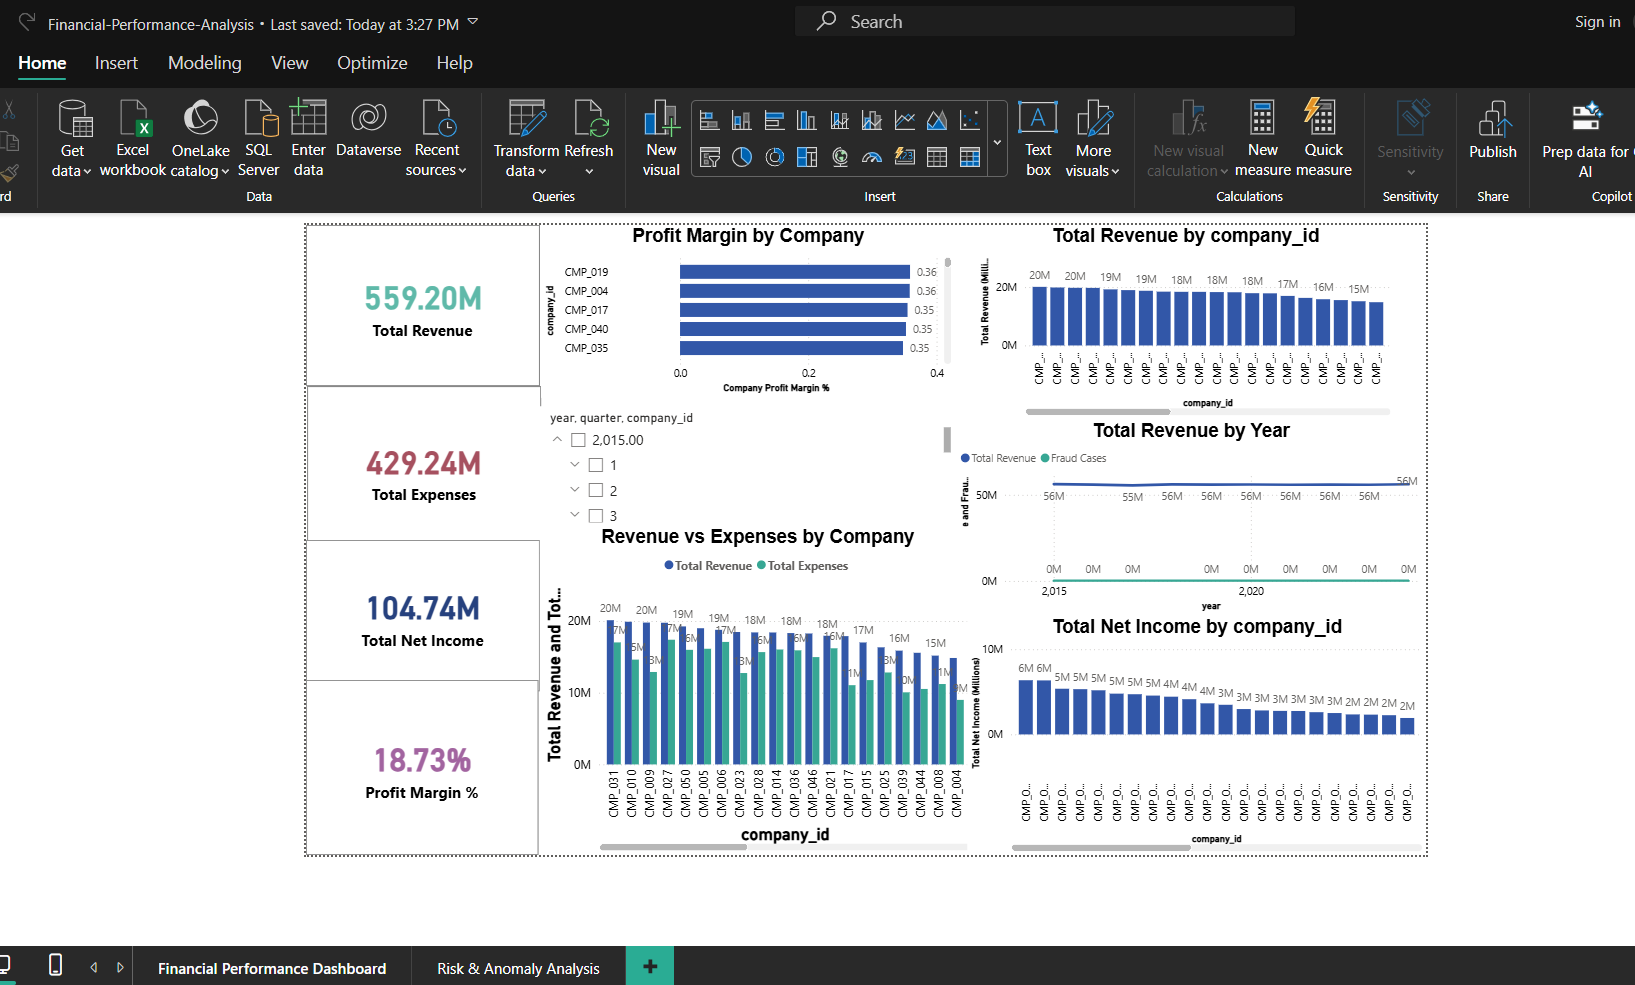

This screenshot's page, from the dashboard's own definition file:
{"tool":"powerbi","page":{"name":"Financial Performance Dashboard","canvas":[1280,720],"ordinal":0},"visuals":[{"type":"card","fields":{"Values":["financial_data.Total Expenses"]},"box":[1.4,184.3,267.1,191.4],"z":0},{"type":"card","fields":{"Values":["financial_data.Total Net Income"]},"box":[0,360,267.1,172.9],"z":1000},{"type":"card","fields":{"Values":["financial_data.Total Revenue"]},"box":[0,0,267.1,184.3],"z":2000},{"type":"card","fields":{"Values":["financial_data.Profit Margin %"]},"box":[0,520,265.7,200],"z":3000},{"type":"lineChart","title":"Total Revenue by Year","fields":{"Y":["financial_data.Total Revenue","financial_data.Fraud Cases"],"Category":["financial_data.year"]},"box":[102.9,328.6,498.6,321.4],"z":4000},{"type":"clusteredColumnChart","fields":{"Y":["financial_data.Total Revenue"],"Category":["financial_data.company_id"]},"box":[765.7,0,514.3,344.3],"z":5000},{"type":"clusteredColumnChart","title":"Revenue vs Expenses by Company","fields":{"Category":["financial_data.company_id"],"Y":["financial_data.Total Revenue","financial_data.Total Expenses"]},"box":[267.1,344.3,498.6,375.7],"z":6000},{"type":"clusteredColumnChart","fields":{"Category":["financial_data.company_id"],"Y":["financial_data.Total Net Income"]},"box":[765.7,344.3,514.3,375.7],"z":7000},{"type":"slicer","fields":{"Values":["financial_data.year","financial_data.quarter","financial_data.company_id"]},"box":[670,255.7,181.4,138.6],"z":8000},{"type":"clusteredBarChart","title":"Profit Margin by Company","fields":{"Category":["financial_data.company_id"],"Y":["financial_data.Company Profit Margin %"]},"box":[268.6,0,582.9,294.3],"z":8001}]}

Visuals, with their boxes on the page's 1280x720 design canvas (x1, y1, x2, y2). These are canvas units, not pixel positions in the 1635x985 screenshot, which may show the page scaled, cropped or inside an application window:
card - financial_data.Total Expenses: pyautogui.locateOnScreen(1, 184, 268, 376)
card - financial_data.Total Net Income: pyautogui.locateOnScreen(0, 360, 267, 533)
card - financial_data.Total Revenue: pyautogui.locateOnScreen(0, 0, 267, 184)
card - financial_data.Profit Margin %: pyautogui.locateOnScreen(0, 520, 266, 720)
"Total Revenue by Year" lineChart: pyautogui.locateOnScreen(103, 329, 602, 650)
clusteredColumnChart - financial_data.Total Revenue x financial_data.company_id: pyautogui.locateOnScreen(766, 0, 1280, 344)
"Revenue vs Expenses by Company" clusteredColumnChart: pyautogui.locateOnScreen(267, 344, 766, 720)
clusteredColumnChart - financial_data.company_id x financial_data.Total Net Income: pyautogui.locateOnScreen(766, 344, 1280, 720)
slicer - financial_data.year x financial_data.quarter: pyautogui.locateOnScreen(670, 256, 851, 394)
"Profit Margin by Company" clusteredBarChart: pyautogui.locateOnScreen(269, 0, 852, 294)
